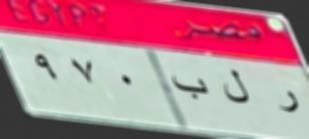0: (113, 68, 145, 95)
7: (67, 56, 96, 84)
9: (28, 48, 60, 84)
baa: (168, 75, 212, 100)
laam: (220, 71, 252, 110)
raa: (272, 87, 305, 120)
